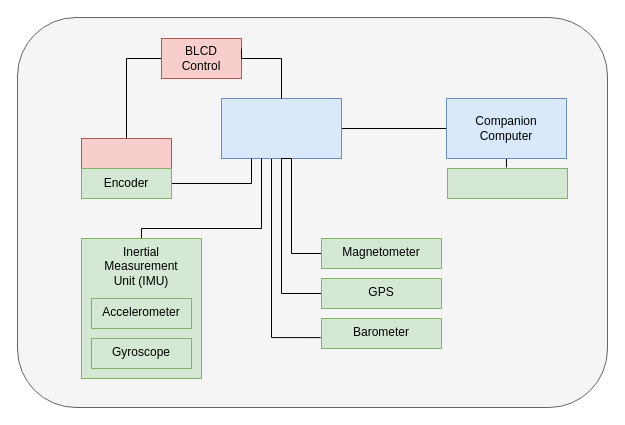
The diagram is 625 pixels wide and 425 high, and some of its shapes have lost their labels. Each missing label, with the centre of its shape:
"Camera(s)" belongs at point 507,183.
"Flight Controller" belongs at point 281,128.
"Motor" belongs at point 126,153.
